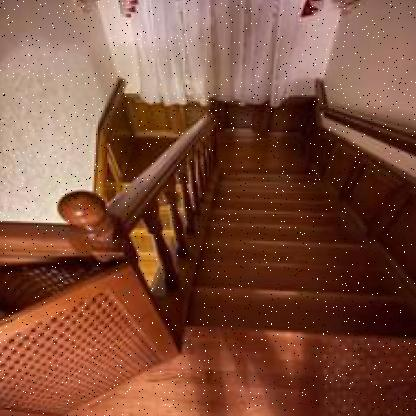stair_down: (180, 201, 416, 344)
